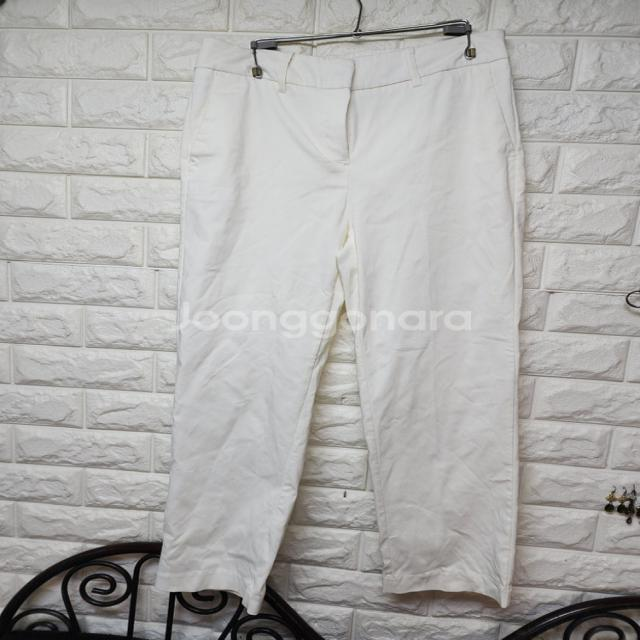long-pants: (155, 31, 522, 616)
